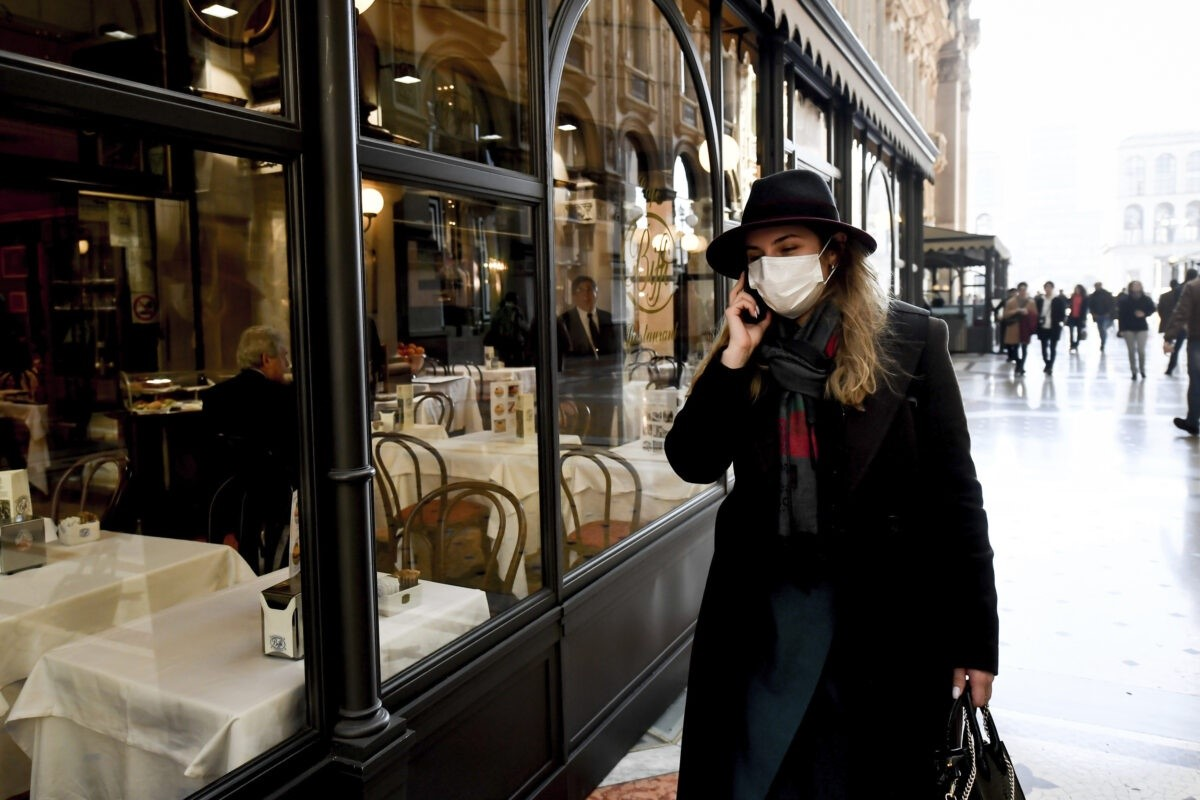face_with_mask: (728, 180, 853, 336)
